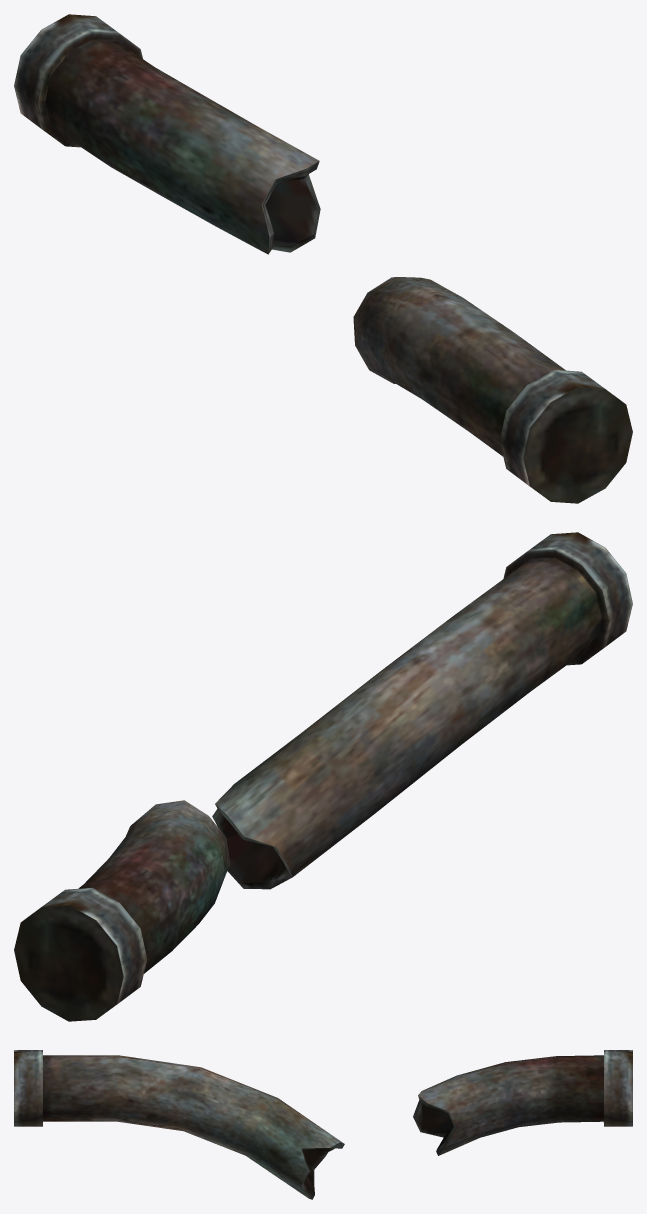
File: 01_02_pipe_medium2_broken.dae
3 renders of one model, top to bottom at view 1: azimuth 30°, elevation 25°; view 2: azimuth 150°, elevation 25°; view 3: azimuth 270°, elevation 25°, orthographic. The views are drawn at different scales.
Parts seen in each view (by area): view 1: Mesh; view 2: Mesh; view 3: Mesh.
Boxes of the visible parts, x1=… form: Mesh: x1=14, y1=14, x2=632, y2=503; Mesh: x1=14, y1=532, x2=632, y2=1021; Mesh: x1=14, y1=1050, x2=632, y2=1199.
Bounding box in the file's own units: 0.4047 × 0.4299 × 2.
